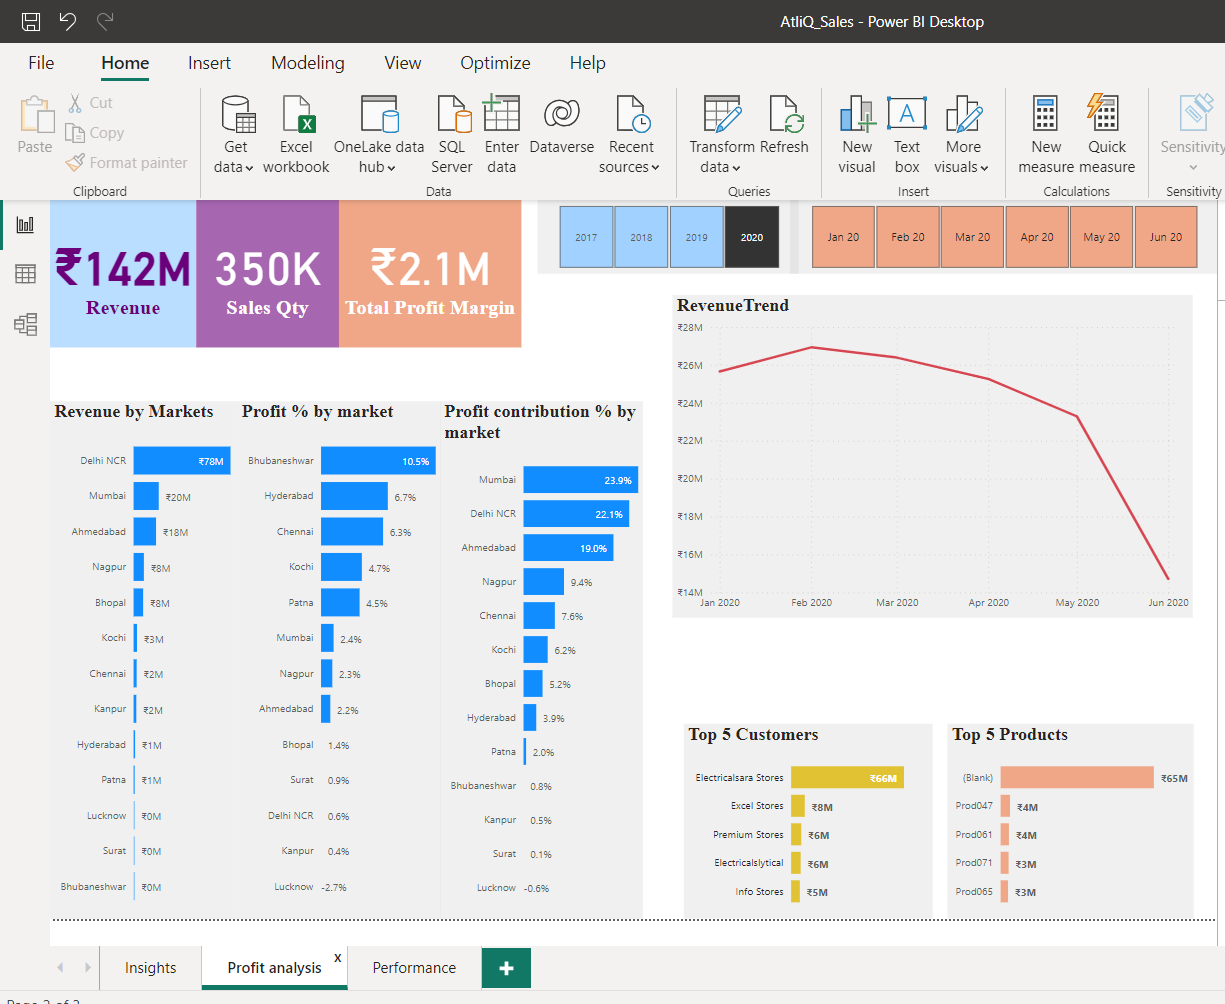

Layout of this report page (visuals, bound fields, positions):
{"tool":"powerbi","page":{"name":"Profit analysis","canvas":[1380,850],"ordinal":1},"visuals":[{"type":"card","fields":{"Values":["BaseMeasures.Revenue"]},"box":[0,0,173.1,174.6],"z":0},{"type":"card","fields":{"Values":["BaseMeasures.Sales Qty"]},"box":[173.1,0,168.7,174.6],"z":1000},{"type":"barChart","title":"Revenue by Markets","fields":{"Y":["BaseMeasures.Revenue"],"Category":["markets.markets_name"]},"box":[0,238.2,221.9,612.5],"z":2000},{"type":"slicer","fields":{"Values":["Date.year"]},"box":[577,0,309.2,87.3],"z":3000},{"type":"slicer","fields":{"Values":["Date.cy_date"]},"box":[874.3,0,506,87.3],"z":4000},{"type":"barChart","title":" Top 5 Customers","fields":{"Y":["BaseMeasures.Revenue"],"Category":["customer.customer_name"]},"box":[750.1,619.9,294.4,230.8],"z":5000},{"type":"barChart","title":" Top 5 Products","fields":{"Y":["BaseMeasures.Revenue"],"Category":["products.product_code"]},"box":[1060.7,619.9,291.4,230.8],"z":6000},{"type":"lineChart","title":"RevenueTrend","fields":{"Y":["BaseMeasures.Revenue"],"Category":["Date.cy_date.Variation.Date Hierarchy.Year","Date.cy_date.Variation.Date Hierarchy.Quarter","Date.cy_date.Variation.Date Hierarchy.Month","Date.cy_date.Variation.Date Hierarchy.Day"]},"box":[736.8,112.4,615.4,381.7],"z":7000},{"type":"barChart","title":"Profit % by market","fields":{"Category":["markets.markets_name"],"Y":["BaseMeasures.Profit Margin %"]},"box":[221.9,238.2,239.7,612.5],"z":8000},{"type":"card","fields":{"Values":["BaseMeasures.Total Profit Margin"]},"box":[341.7,0,216,174.6],"z":9000},{"type":"barChart","title":"Profit contribution % by market","fields":{"Category":["markets.markets_name"],"Y":["BaseMeasures.Profit Margin Contribution %"]},"box":[461.6,238.2,239.7,612.5],"z":10000}]}

Visuals, with their boxes on the page's 1380x850 design canvas (x1, y1, x2, y2). These are canvas units, not pixel positions in the 1225x1004 screenshot, which may show the page scaled, cropped or inside an application window:
card - BaseMeasures.Revenue: <bbox>0, 0, 173, 175</bbox>
card - BaseMeasures.Sales Qty: <bbox>173, 0, 342, 175</bbox>
"Revenue by Markets" barChart: <bbox>0, 238, 222, 851</bbox>
slicer - Date.year: <bbox>577, 0, 886, 87</bbox>
slicer - Date.cy_date: <bbox>874, 0, 1380, 87</bbox>
" Top 5 Customers" barChart: <bbox>750, 620, 1044, 851</bbox>
" Top 5 Products" barChart: <bbox>1061, 620, 1352, 851</bbox>
"RevenueTrend" lineChart: <bbox>737, 112, 1352, 494</bbox>
"Profit % by market" barChart: <bbox>222, 238, 462, 851</bbox>
card - BaseMeasures.Total Profit Margin: <bbox>342, 0, 558, 175</bbox>
"Profit contribution % by market" barChart: <bbox>462, 238, 701, 851</bbox>
